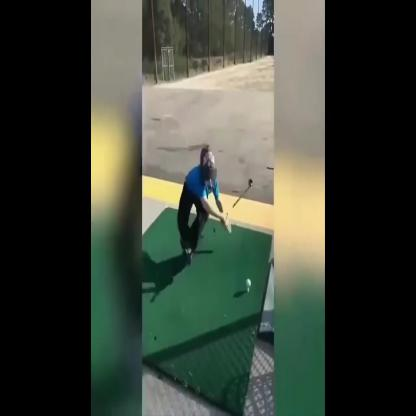Fall_Down: (172, 139, 236, 267)
